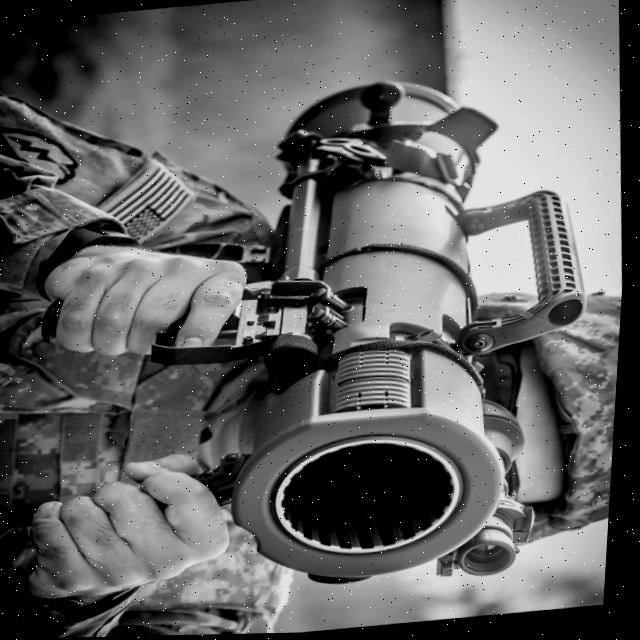rocket: (210, 64, 620, 592)
